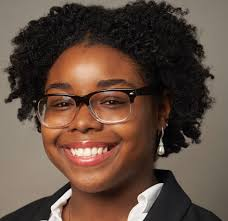person: (12, 5, 191, 195)
